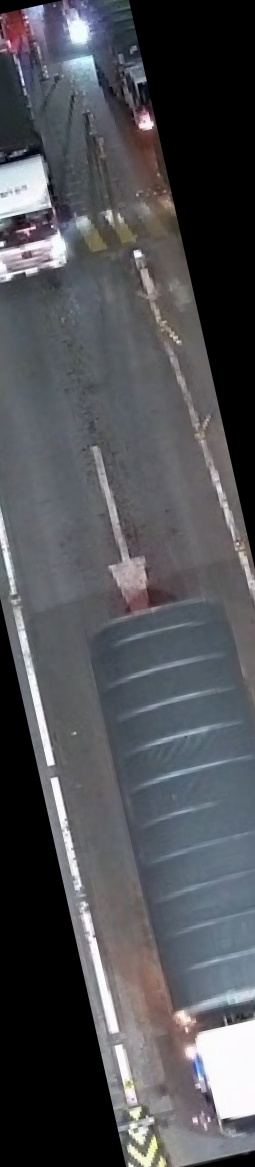truck: (72, 585, 255, 1154), (0, 40, 78, 291)
